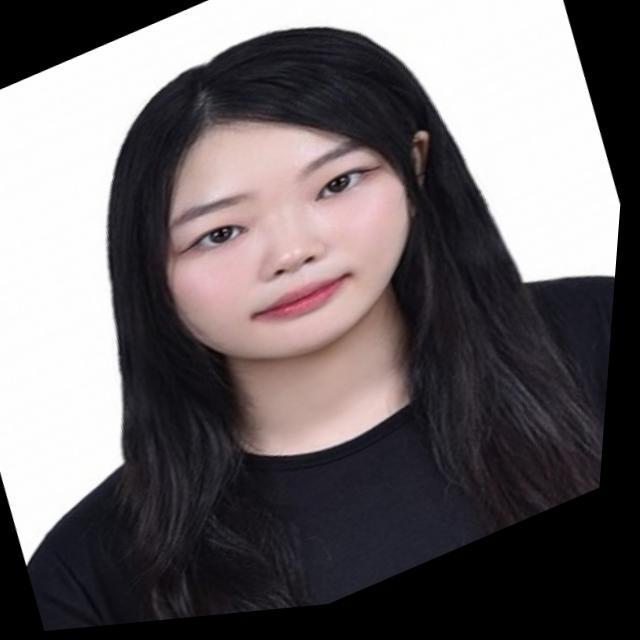Nonhelmet: (108, 17, 448, 369)
